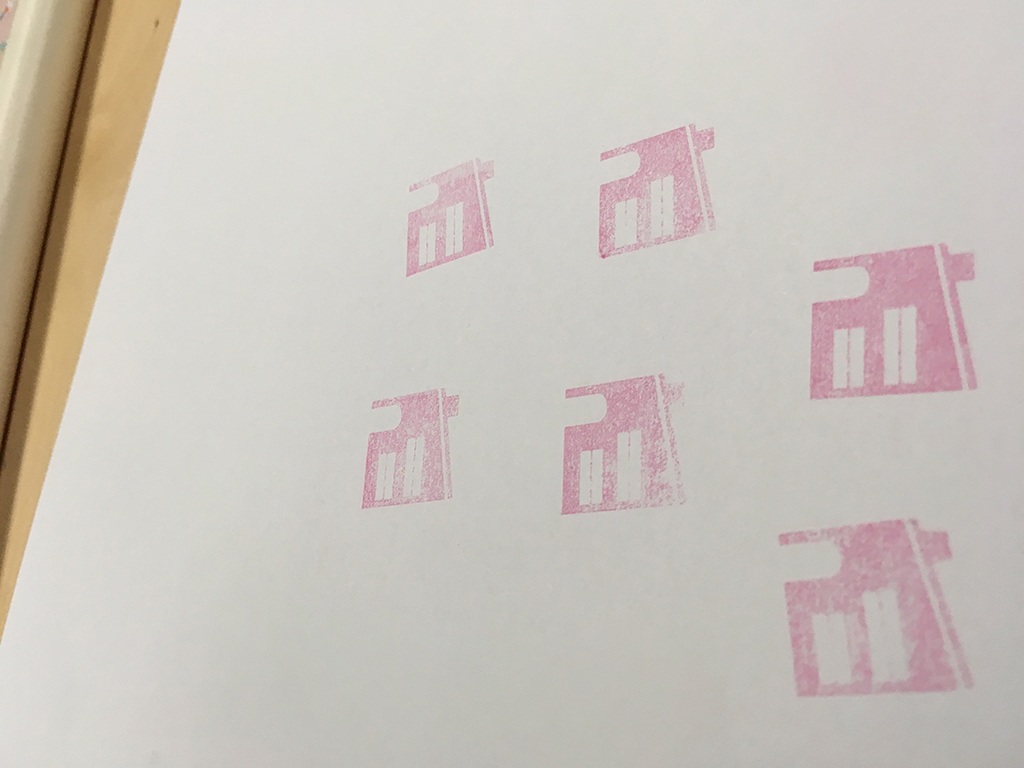house: (754, 507, 1000, 707), (793, 239, 993, 403), (550, 366, 704, 525), (589, 118, 740, 267), (353, 380, 471, 519), (393, 152, 510, 277)
